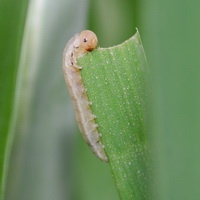insect: (63, 30, 107, 161)
